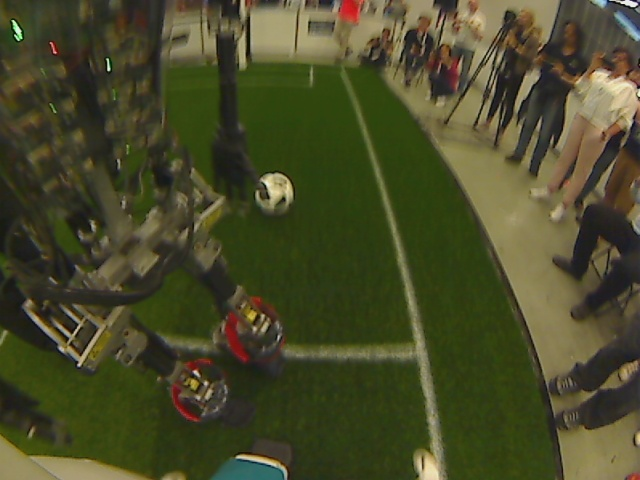ball: (252, 170, 293, 222)
goalpost: (232, 51, 260, 80)
robot: (221, 350, 291, 418)
